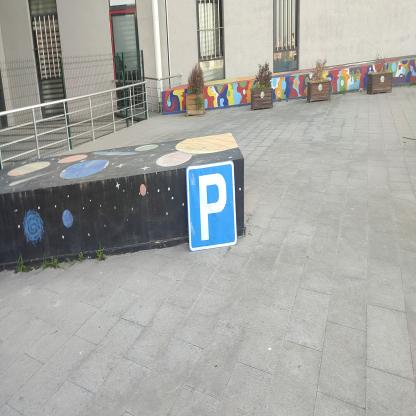Parking-Sign: (185, 160, 240, 256)
